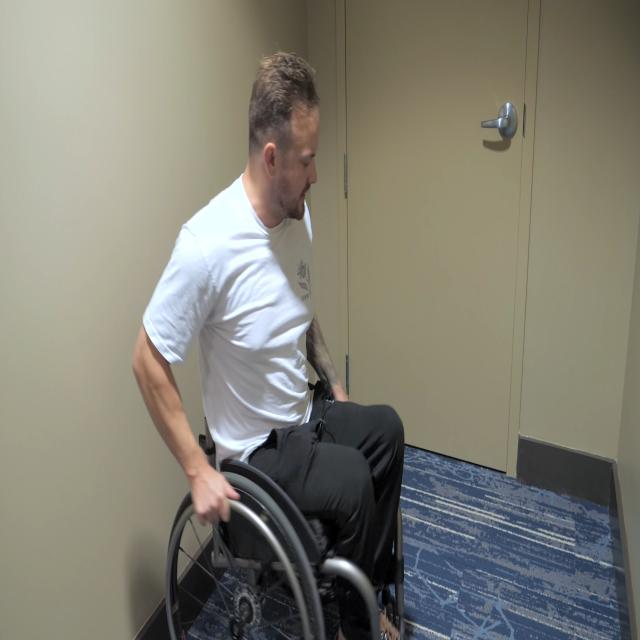wheelchairs: (163, 348, 409, 640)
